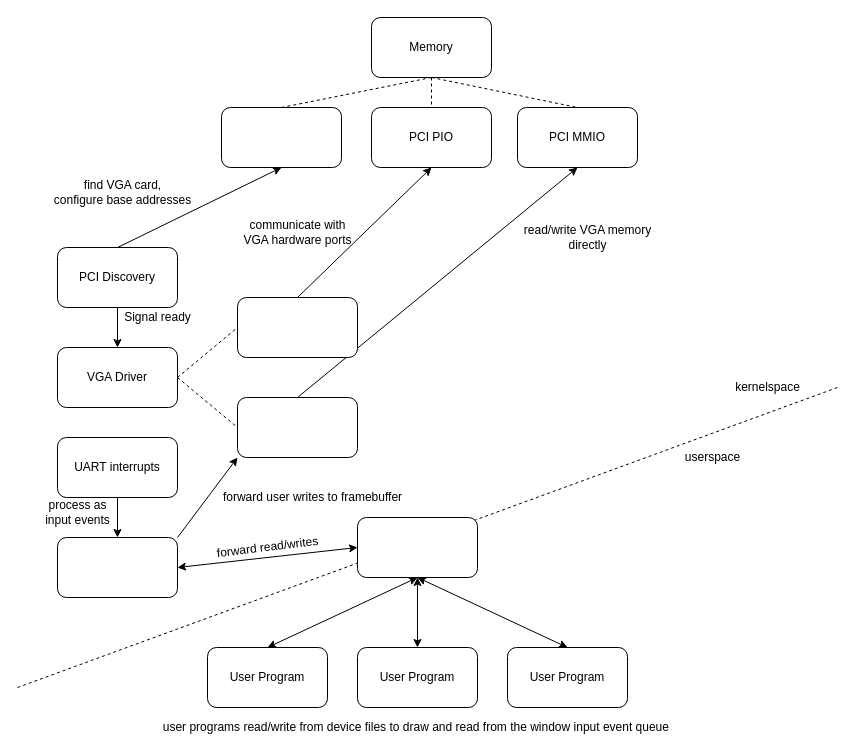
Some shapes in this 856 by 755 pixel diagram are drawn without their labels. Each missing label, with the centre of its shape:
Kernel Window Manager: pixel 117 567
PCI Configuration Space: pixel 281 137
VGA Framebuffer: pixel 297 427
VGA Modesetting Code: pixel 297 327
Window Device Files: pixel 417 547
